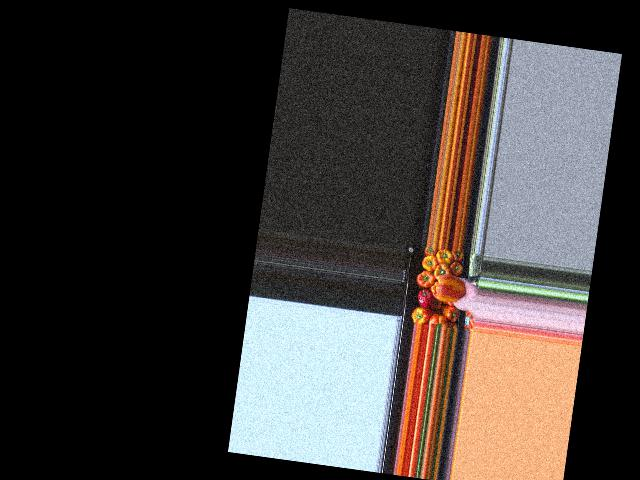bell_pepper: (441, 303, 458, 323)
